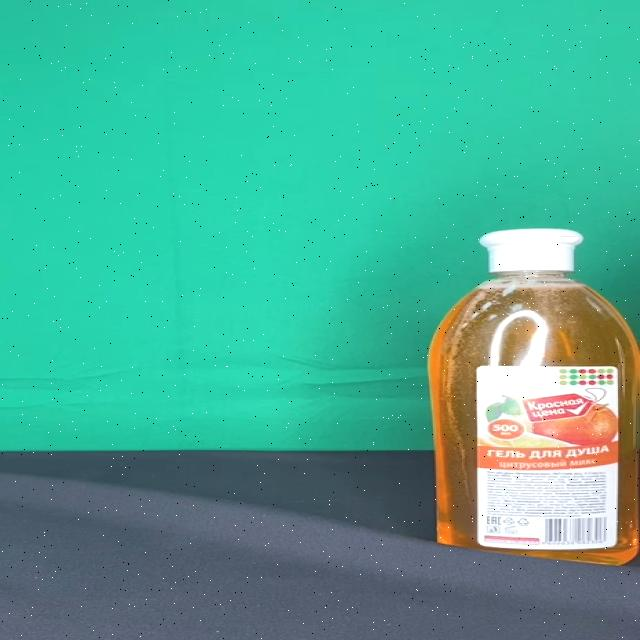Bottle: (426, 228, 640, 566)
Cap: (478, 230, 582, 272)
